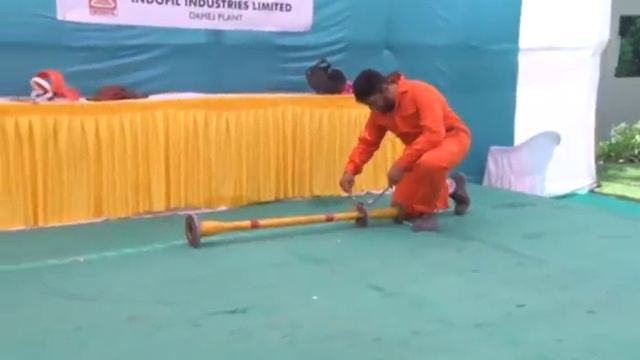helmet_off: (352, 69, 397, 112)
person: (343, 64, 472, 228)
